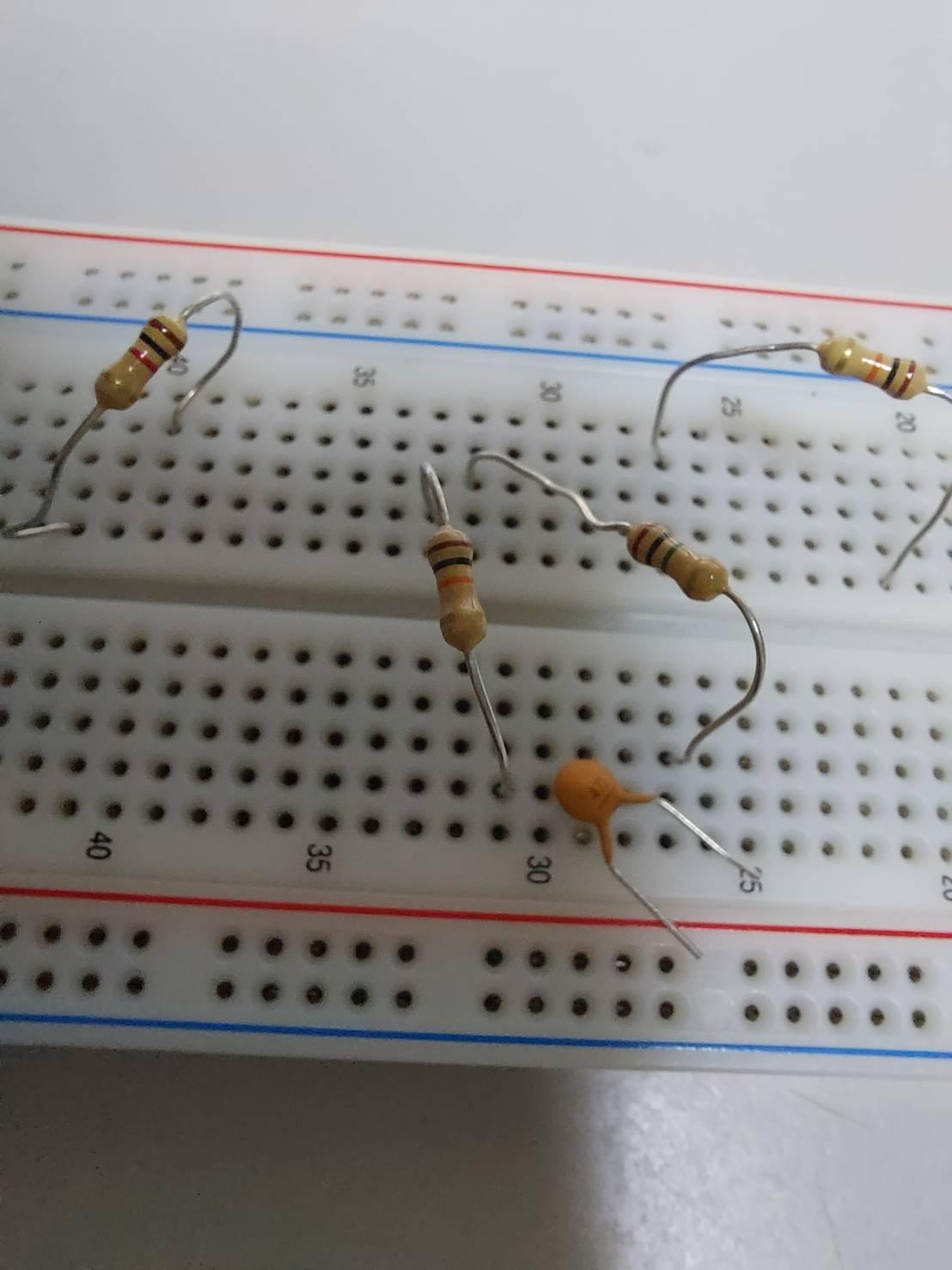resistor: (90, 295, 196, 416), (616, 521, 744, 604), (414, 517, 493, 646), (819, 326, 929, 404)
